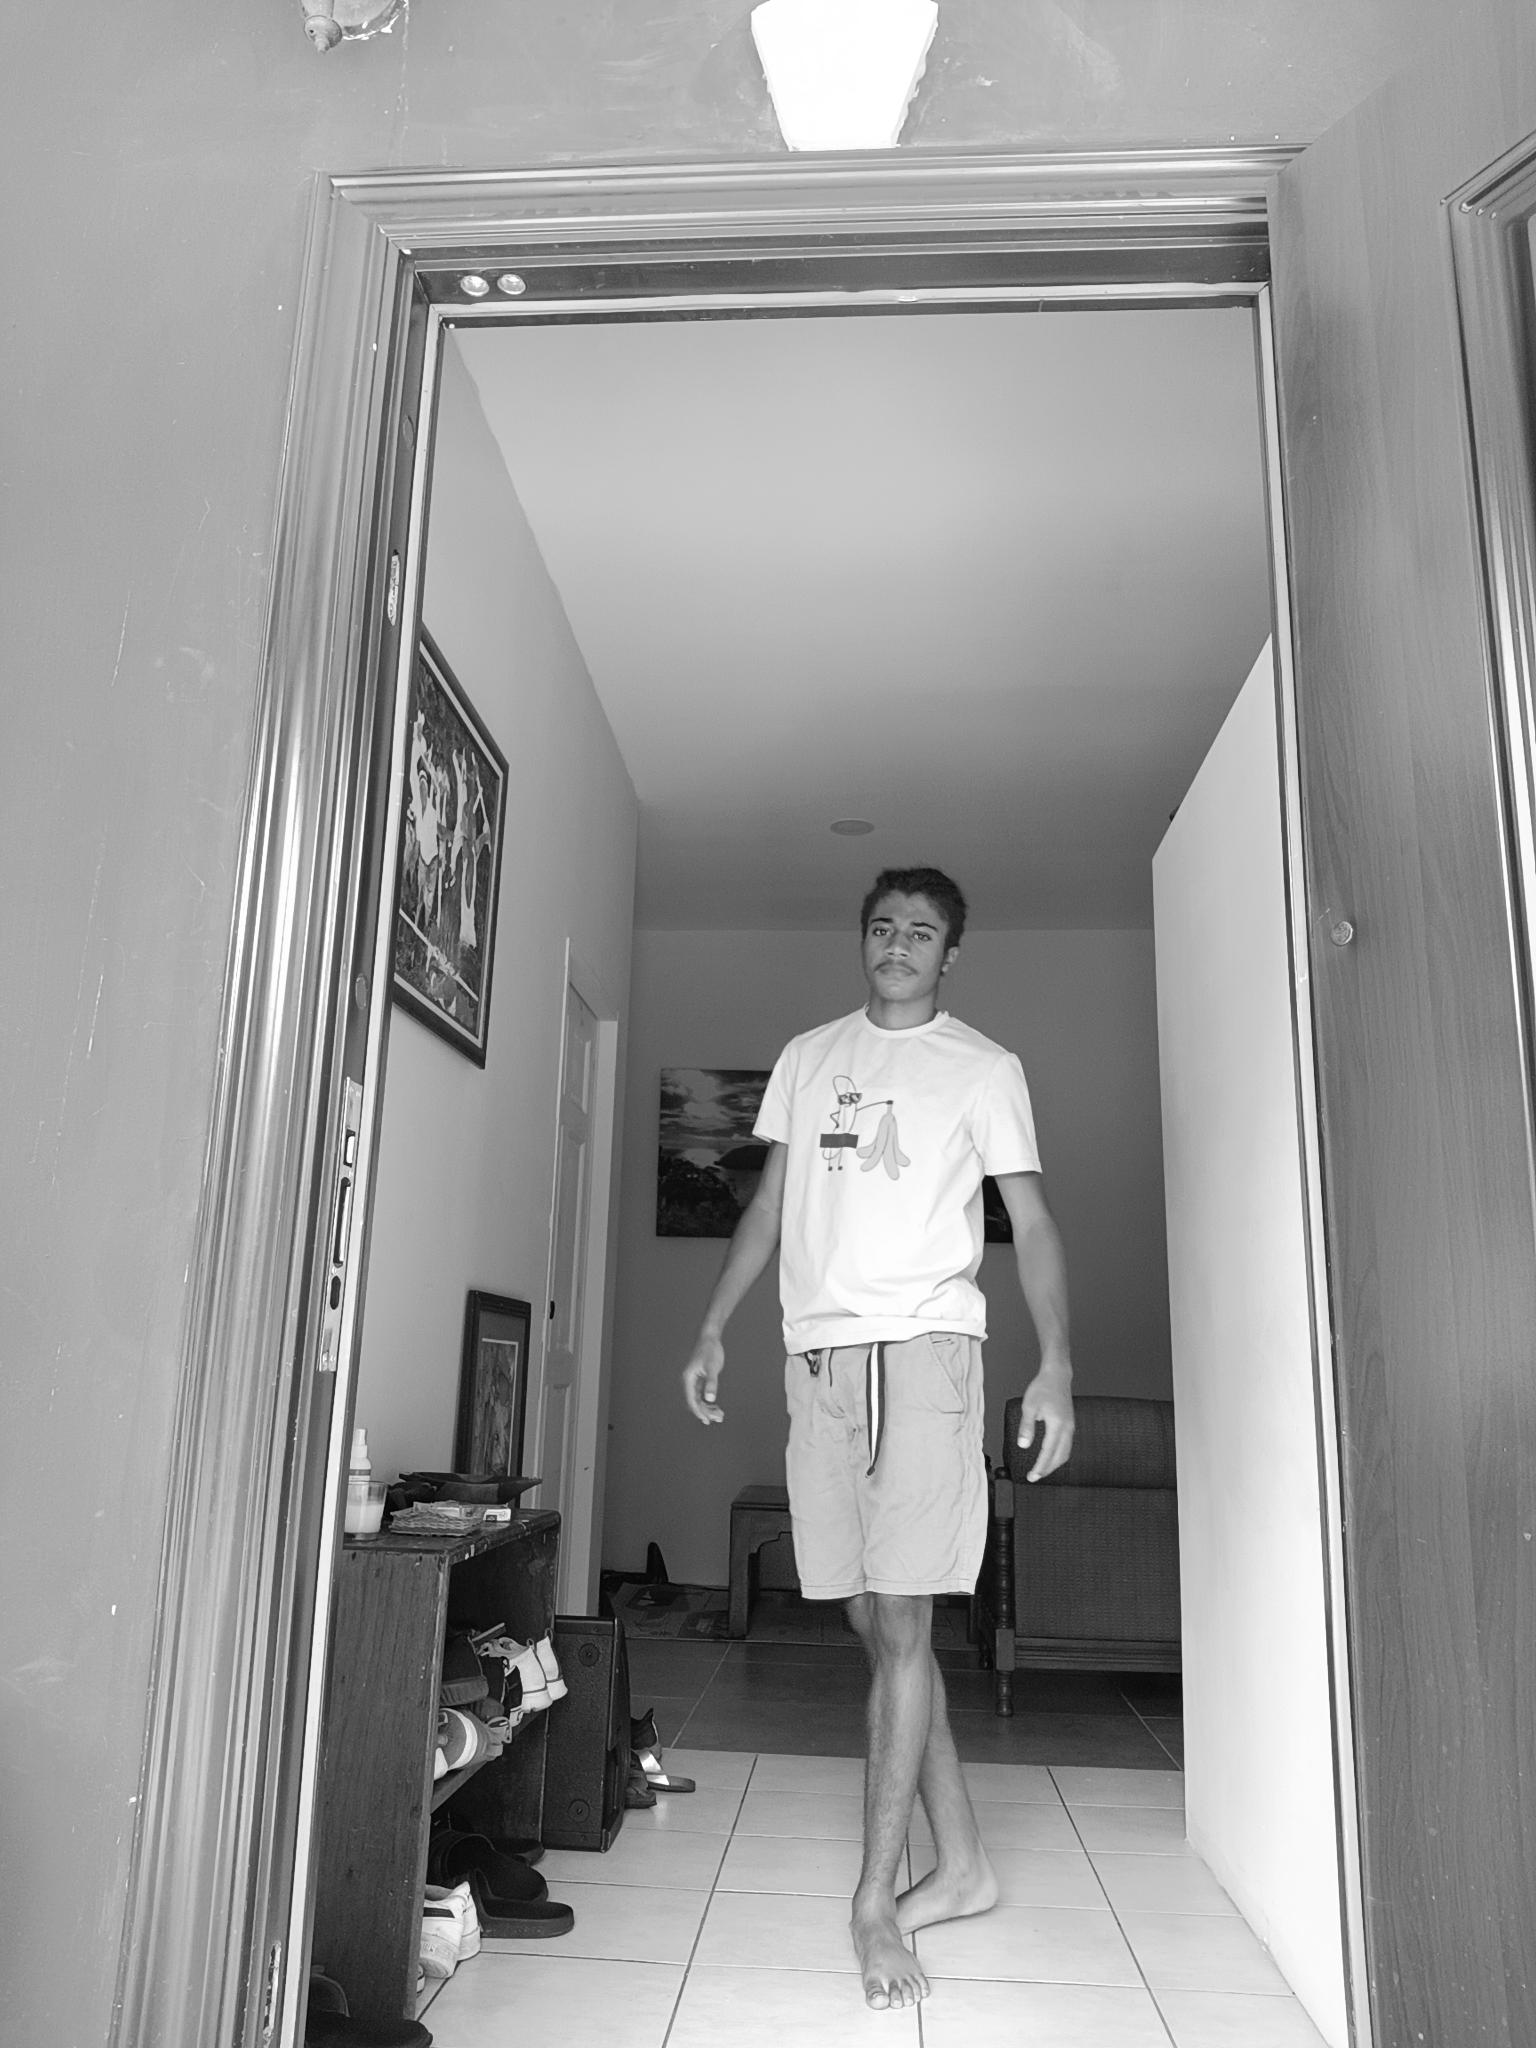front: (676, 861, 1081, 2013)
